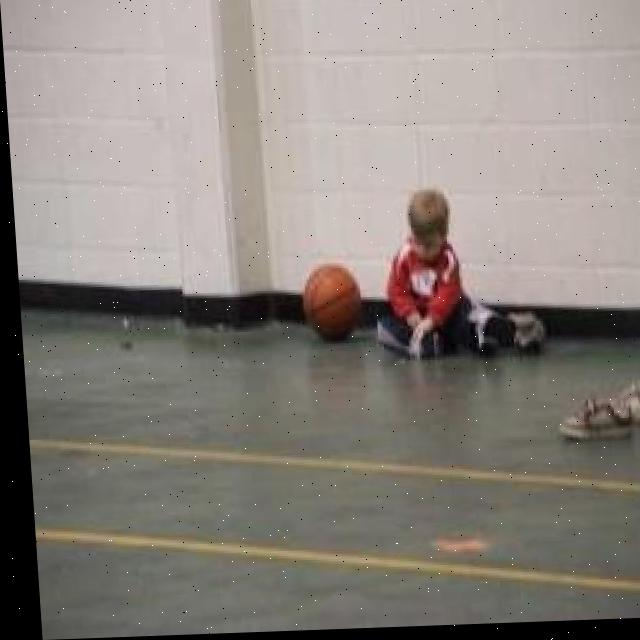Basketball: (301, 264, 361, 344)
